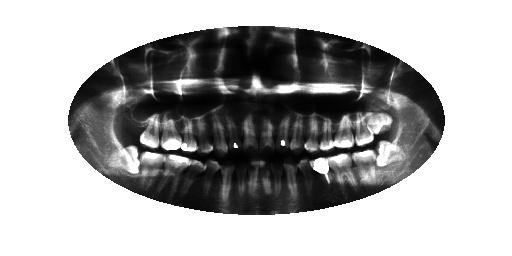Cavity: (257, 114, 276, 156), (243, 112, 257, 153)
Fillings: (160, 113, 182, 151), (278, 114, 290, 150), (229, 117, 240, 151)
Impacted Tooth: (105, 145, 140, 177), (376, 140, 409, 168)
Implant: (309, 157, 330, 188)
